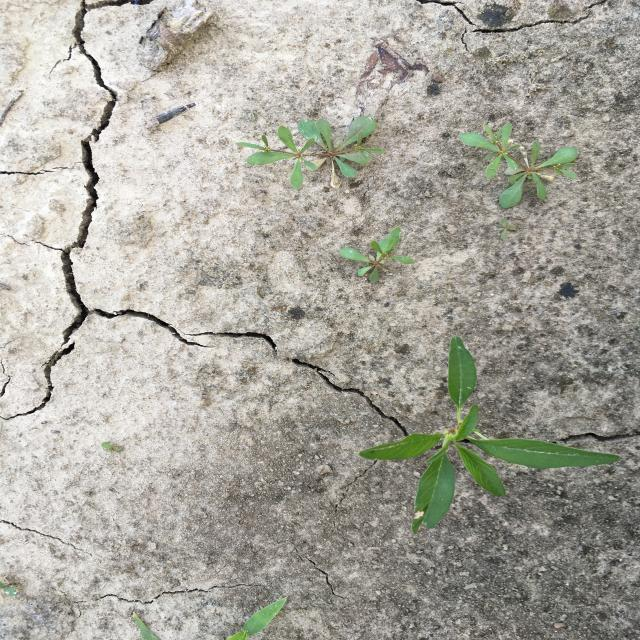Carpetweed: (234, 115, 387, 192), (458, 122, 580, 210), (336, 225, 417, 285)
Waterhemp: (356, 335, 621, 535)
